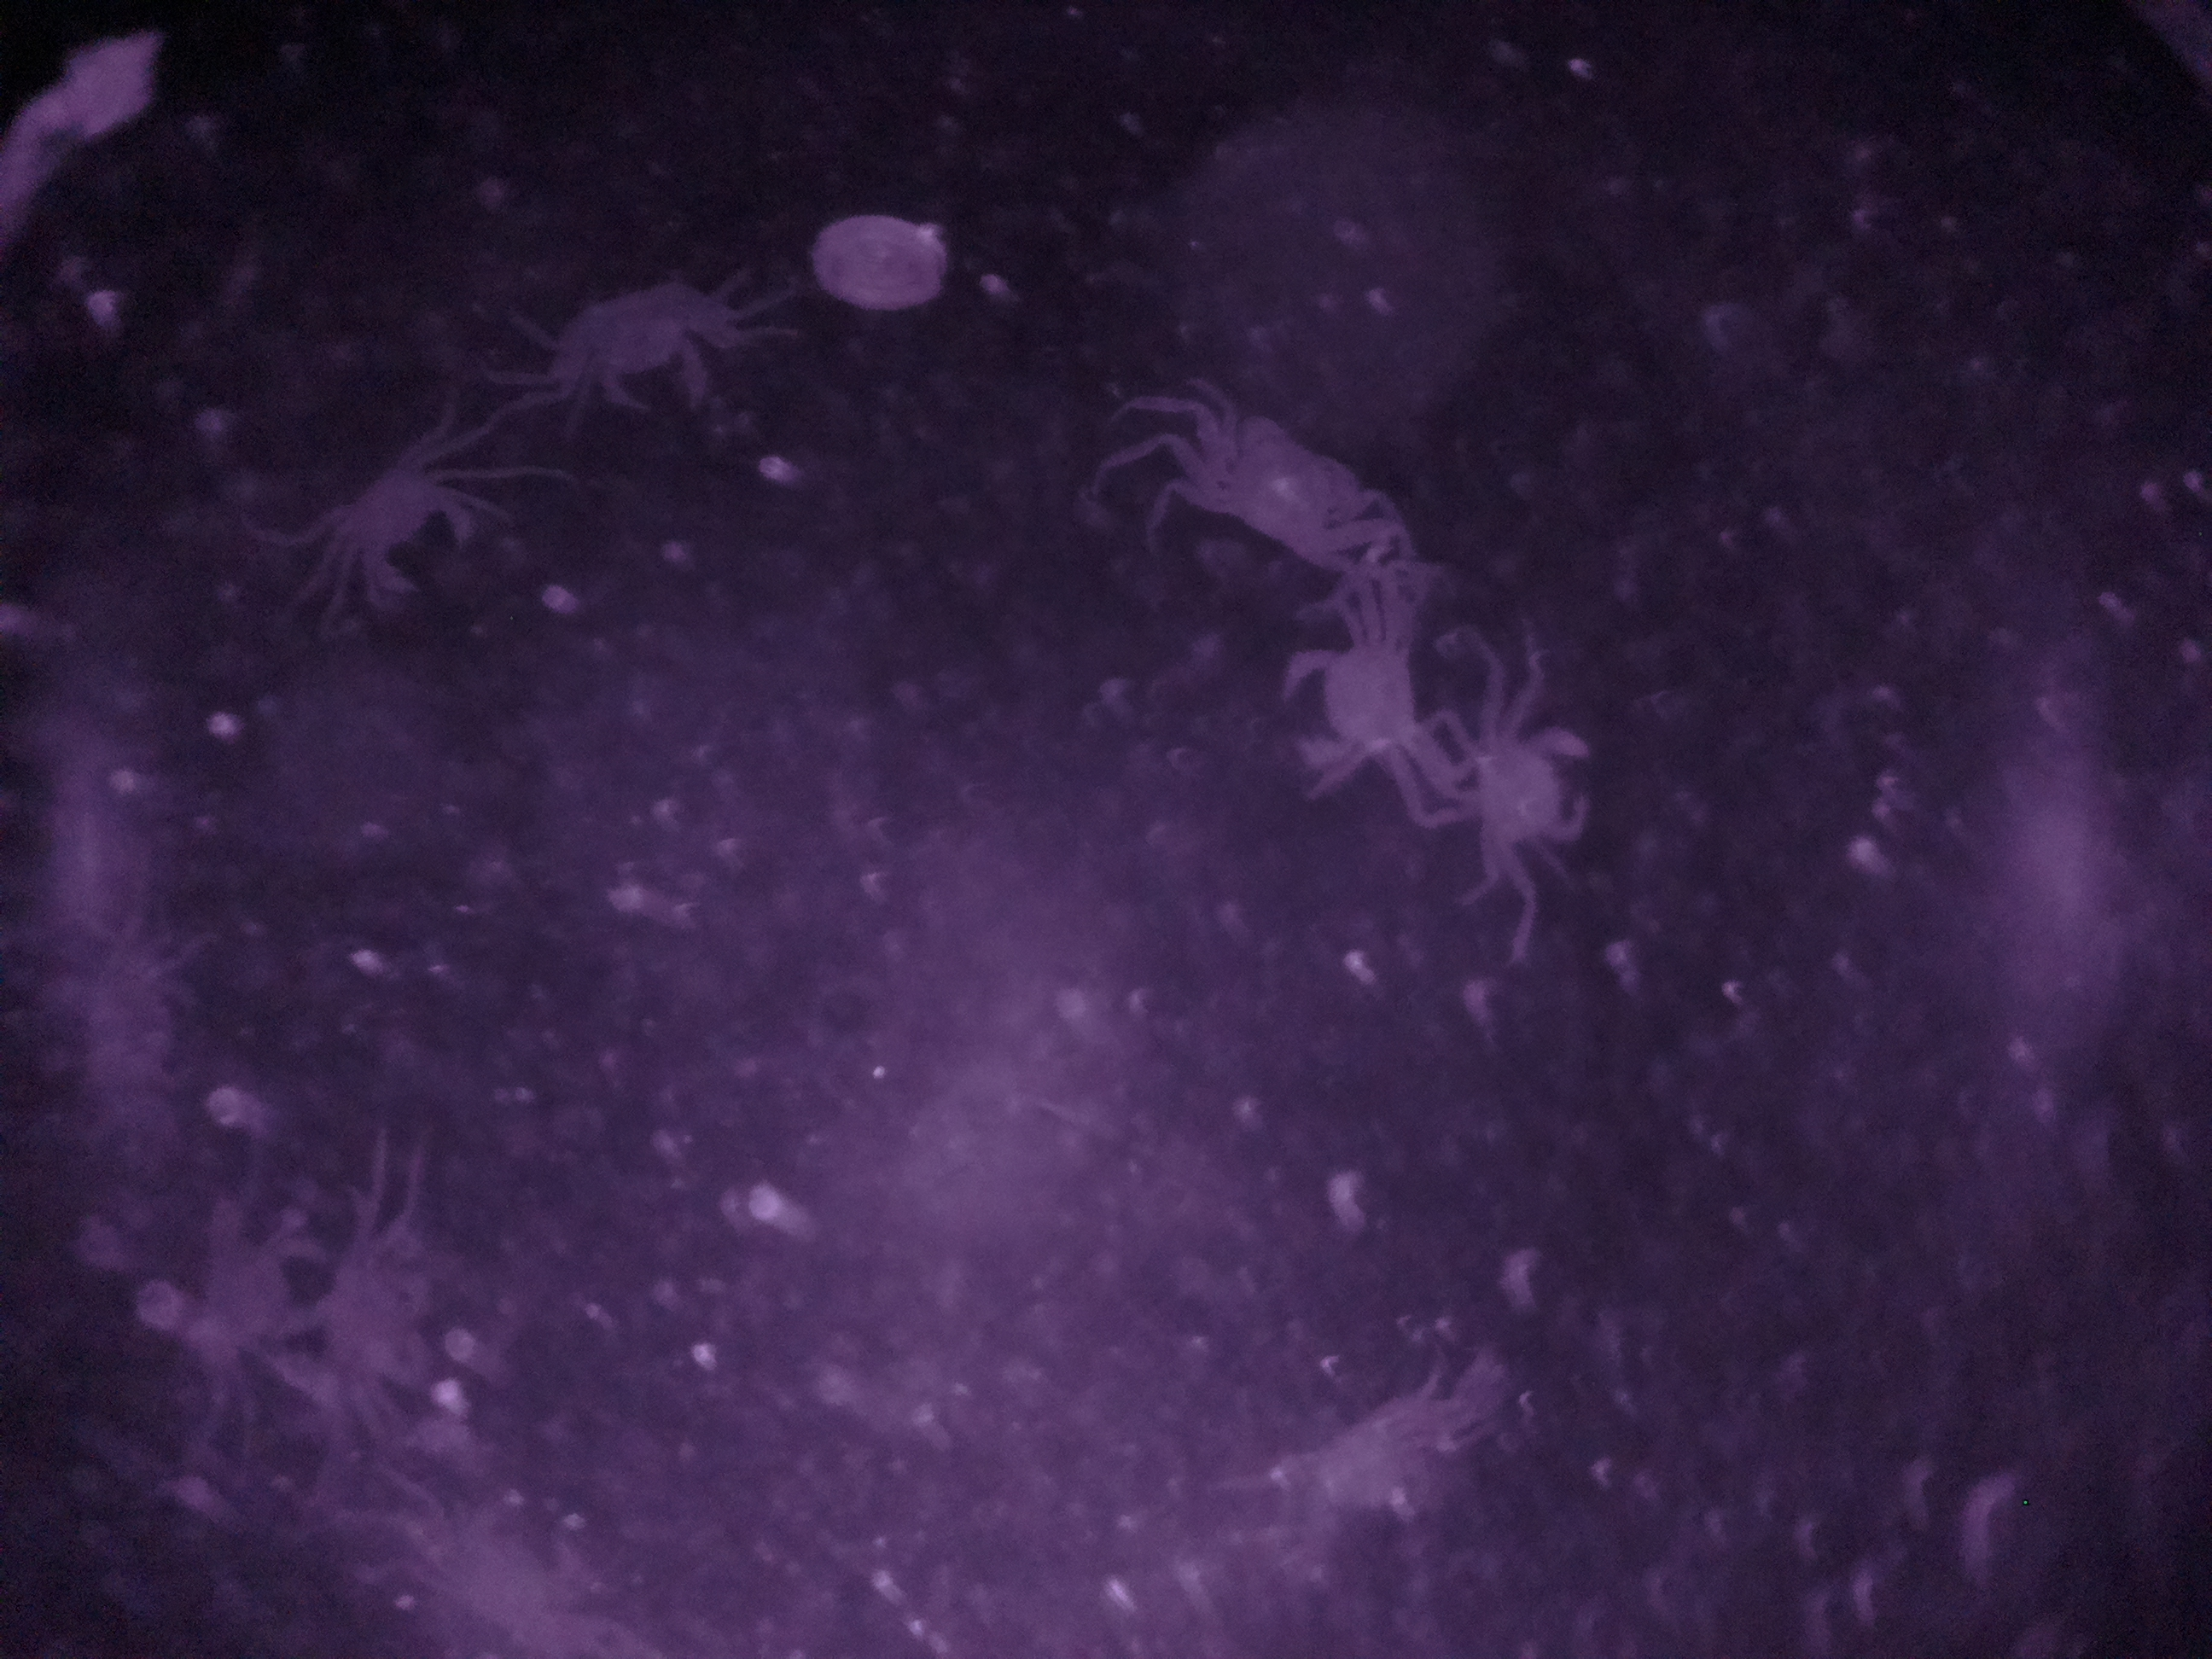Crab: (1104, 385, 1409, 586), (510, 247, 742, 430)
